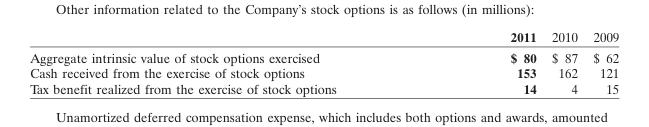table: (29, 28, 618, 96)
table column: (29, 28, 422, 96), (422, 28, 543, 96), (543, 28, 584, 96), (584, 28, 618, 96)
table column header: (29, 28, 618, 46)
table row: (29, 28, 618, 46), (29, 46, 618, 64), (29, 64, 618, 80), (29, 80, 618, 96)
